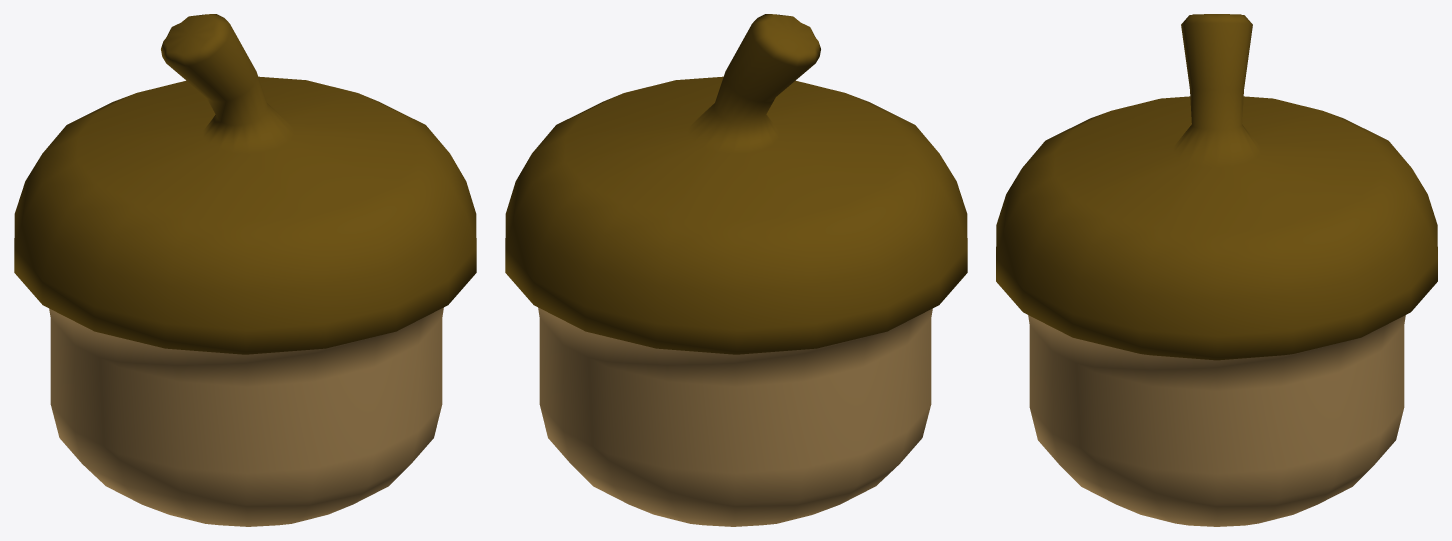
Rendered from acorn.fbx.
3 views of the same model, side by side, from view 1: azimuth 30°, elevation 25°; view 2: azimuth 150°, elevation 25°; view 3: azimuth 270°, elevation 25° (orthographic). The views are drawn at different scales.
Visible parts, largest first — view 1: pCylinder1; view 2: pCylinder1; view 3: pCylinder1.
Part boxes in pixels (x1,y1,x2,y2): pCylinder1: [14, 14, 476, 526]; pCylinder1: [505, 14, 967, 526]; pCylinder1: [996, 14, 1437, 526].
Size of the model in its own units: 2.22 by 2.64 by 2.19.
